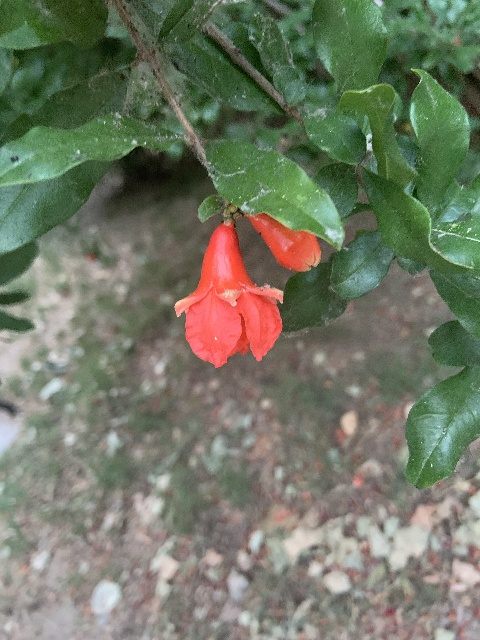bud: (244, 212, 321, 273)
flower: (174, 221, 283, 367)
